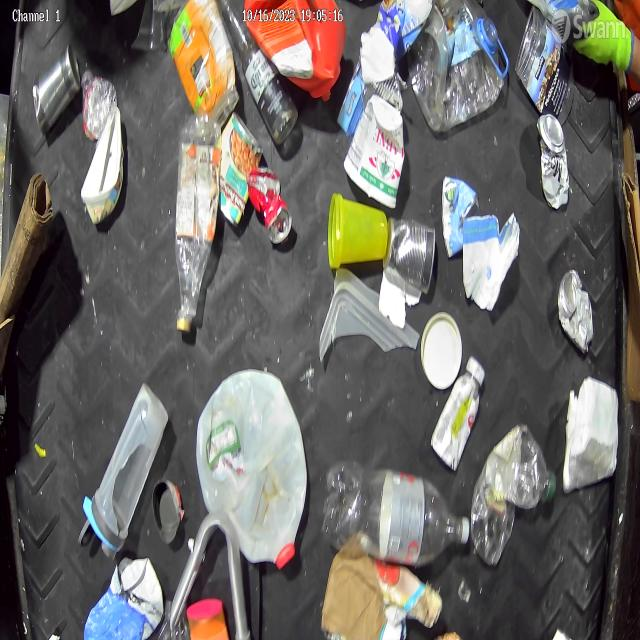can: (337, 49, 408, 142), (218, 110, 262, 231), (31, 40, 80, 138), (383, 216, 436, 296), (246, 167, 293, 248), (536, 113, 570, 210), (557, 268, 594, 354), (151, 476, 183, 545)
milk_jug: (196, 368, 310, 568)
non_white_jug: (406, 0, 510, 133), (244, 0, 346, 106), (82, 554, 165, 640), (374, 0, 433, 58)
plastic_bottle: (321, 462, 471, 565), (470, 422, 557, 568), (173, 112, 224, 337), (80, 66, 118, 142)
